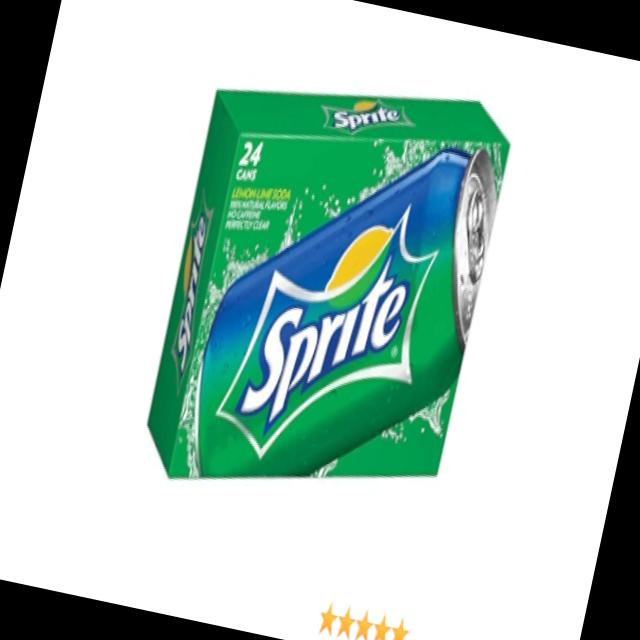sprite: (156, 144, 499, 507)
